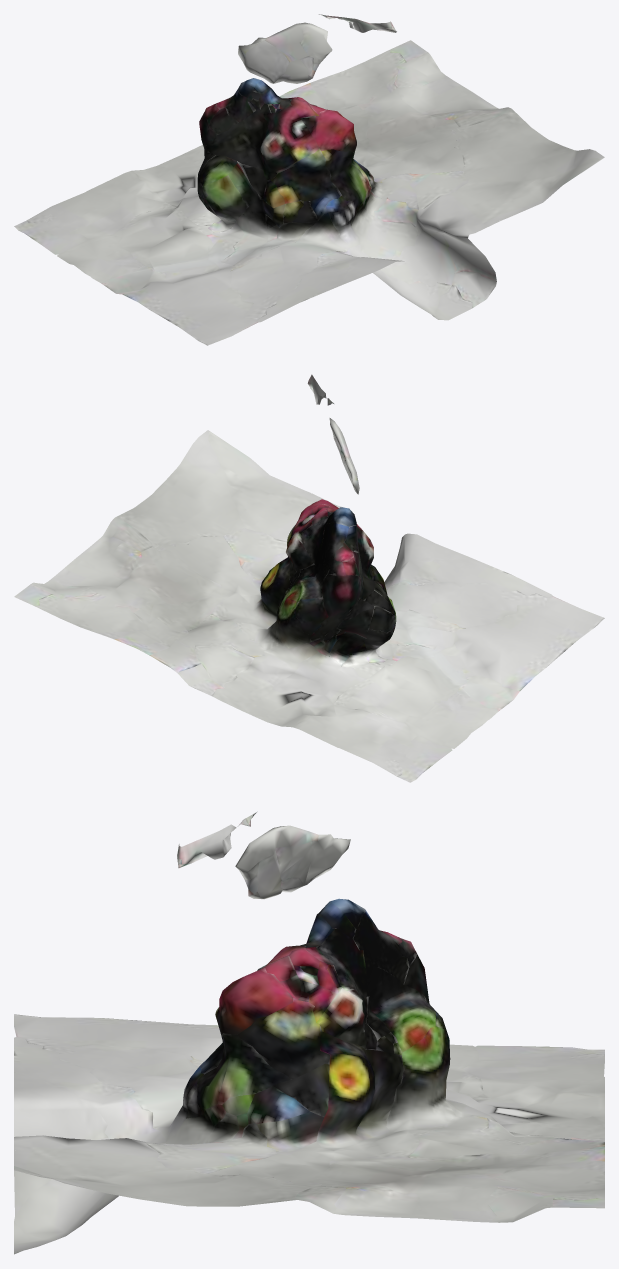
Rendered from hall.glb.
3 renders of one model, top to bottom at view 1: azimuth 30°, elevation 25°; view 2: azimuth 150°, elevation 25°; view 3: azimuth 270°, elevation 25°, orthographic. The views are drawn at different scales.
Bounding box in the file's own units: 1.15 × 0.7151 × 0.9693.
Materials: 1 (1 with a texture image).
